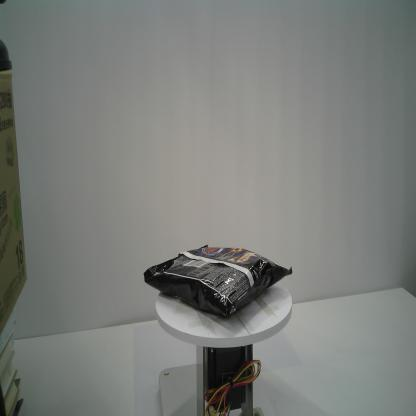Instant Noodles: (143, 244, 294, 320)
